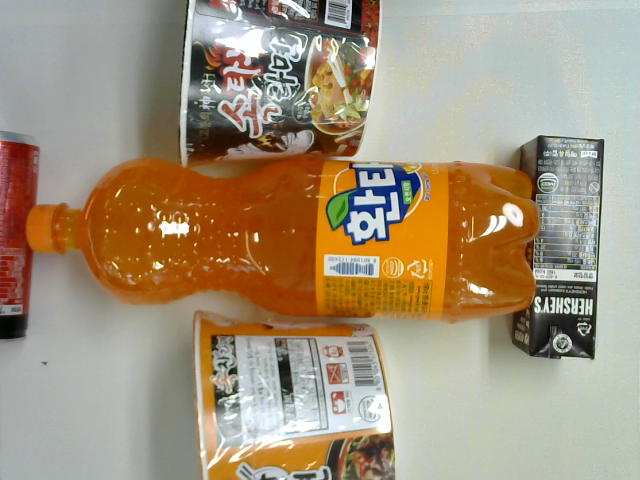Coca_Cola_Zero_Can_250ml: (1, 126, 45, 347)
HeJangsock: (175, 1, 382, 172)
Hejangchan: (189, 306, 396, 480)
Hush_Choco_Drink: (513, 130, 602, 365)
Hwanta_Orange_1.5L: (24, 150, 542, 325)
